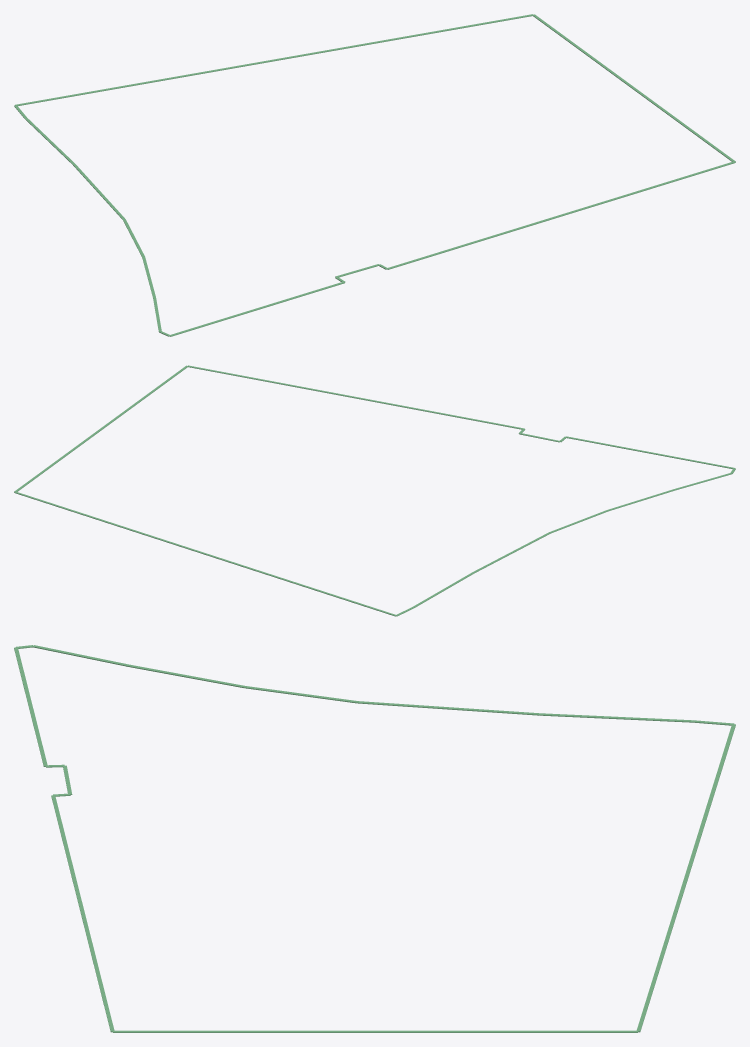
File: gandhi-bagh.glb
The picture shows the model from 3 angles, top to bottom: view 1: azimuth 30°, elevation 25°; view 2: azimuth 150°, elevation 25°; view 3: azimuth 270°, elevation 25°; orthographic projection. The views are drawn at different scales.
Visible parts, largest first — view 1: NCR_gandhi-bagh; view 2: NCR_gandhi-bagh; view 3: NCR_gandhi-bagh.
Boxes of the visible parts, x1,y1,x2,y2 form: NCR_gandhi-bagh: (14,14,735,336); NCR_gandhi-bagh: (14,365,735,616); NCR_gandhi-bagh: (14,645,735,1032).
Size of the model in its own units: 457 by 0.4 by 360.
